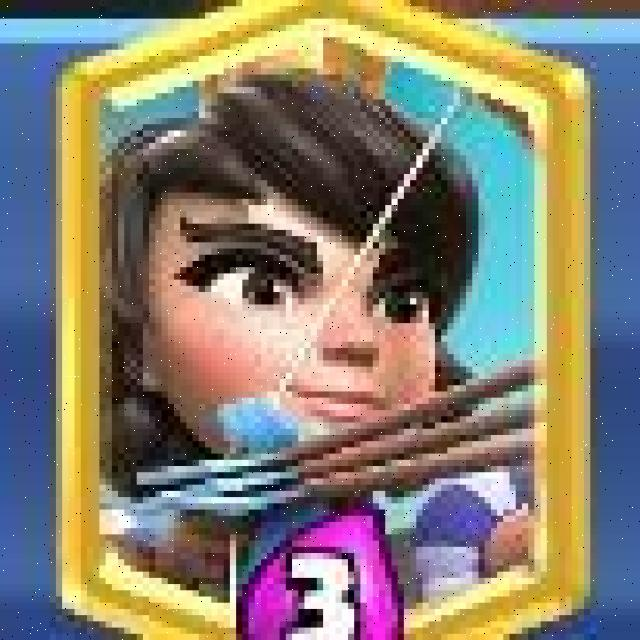Princess: (59, 1, 597, 640)
